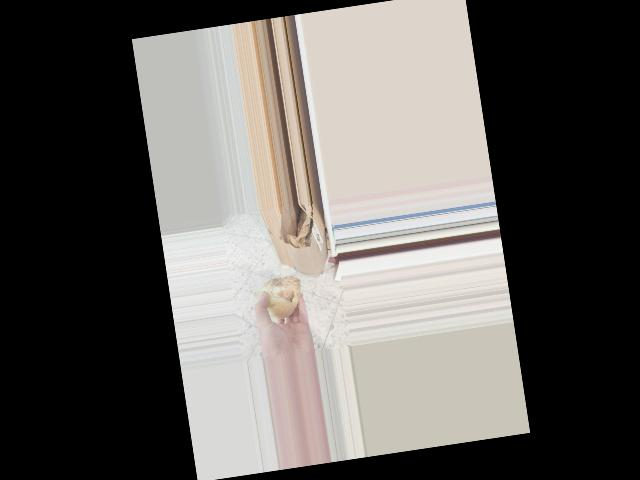onion: (254, 270, 305, 323)
